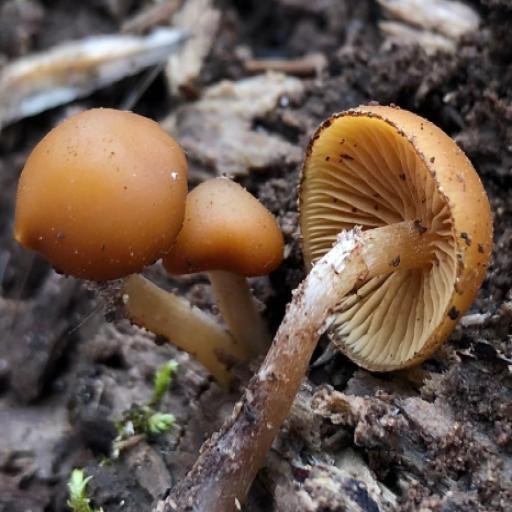mushroom: (18, 100, 288, 382), (297, 74, 499, 411)
